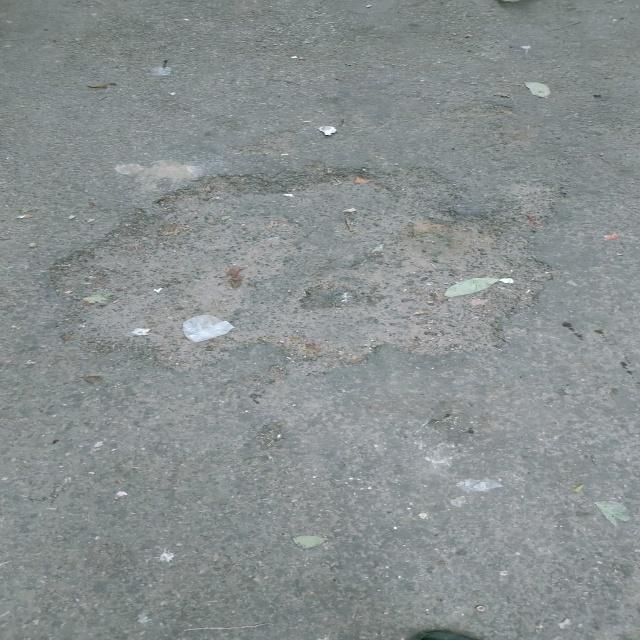Surface Erosion: (21, 64, 640, 495)
